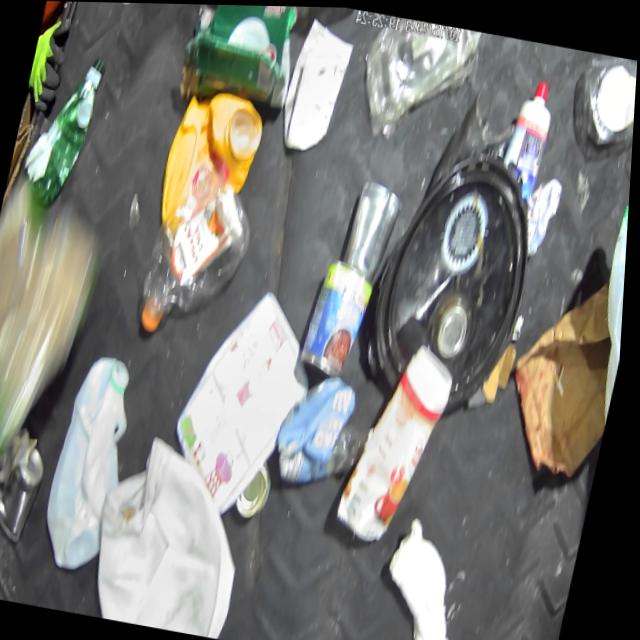can: (300, 253, 382, 384), (341, 174, 411, 286), (0, 439, 57, 549), (236, 456, 283, 523)
milk_jug: (85, 425, 271, 640), (39, 344, 152, 578), (579, 198, 631, 433)
non_white_jug: (152, 83, 272, 245)
plastic_bottle: (133, 177, 261, 349), (278, 408, 381, 496), (545, 626, 568, 640)
